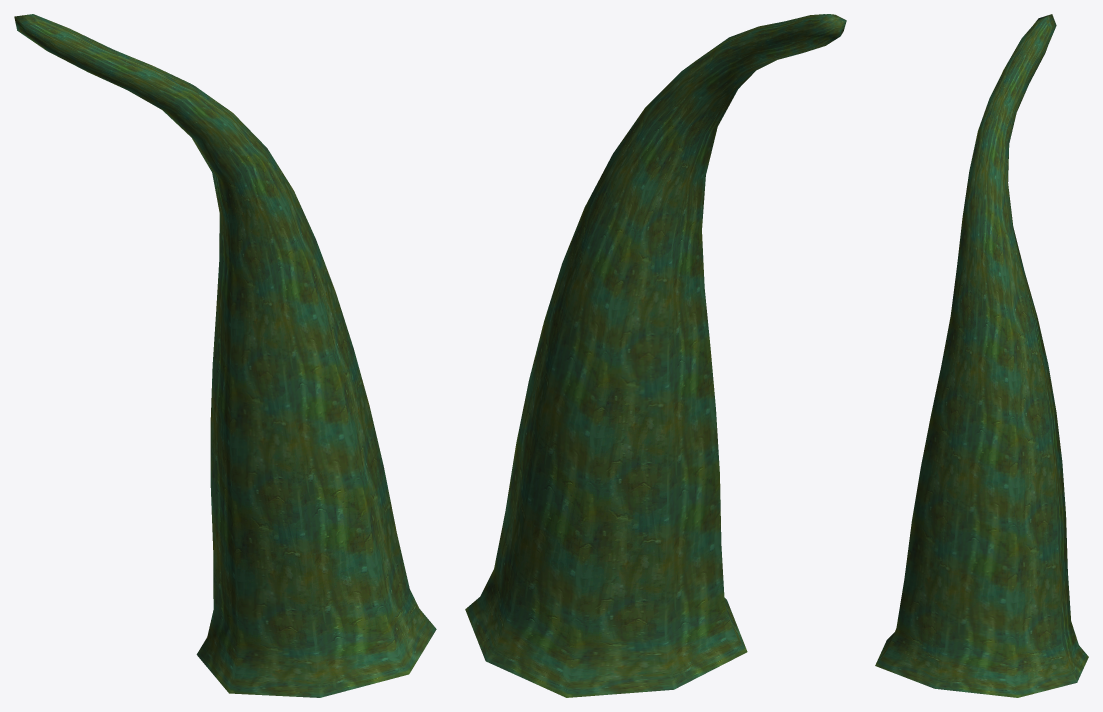
The model's file is MIRKWOOD_MIRK_PLAYSURFACE196.fbx.
3 renders of one model, left to right at view 1: azimuth 30°, elevation 25°; view 2: azimuth 150°, elevation 25°; view 3: azimuth 270°, elevation 25°, orthographic. The views are drawn at different scales.
Visible parts, largest first — view 1: MIRKWOOD_MIRK_PLAYSURFACE196; view 2: MIRKWOOD_MIRK_PLAYSURFACE196; view 3: MIRKWOOD_MIRK_PLAYSURFACE196.
Part boxes in pixels (bbox=[...]): MIRKWOOD_MIRK_PLAYSURFACE196: bbox=[14, 14, 436, 697]; MIRKWOOD_MIRK_PLAYSURFACE196: bbox=[465, 14, 846, 697]; MIRKWOOD_MIRK_PLAYSURFACE196: bbox=[875, 14, 1088, 697].
Size of the model in its own units: 117154 by 203587 by 71234.
1 material, 1 textured.
